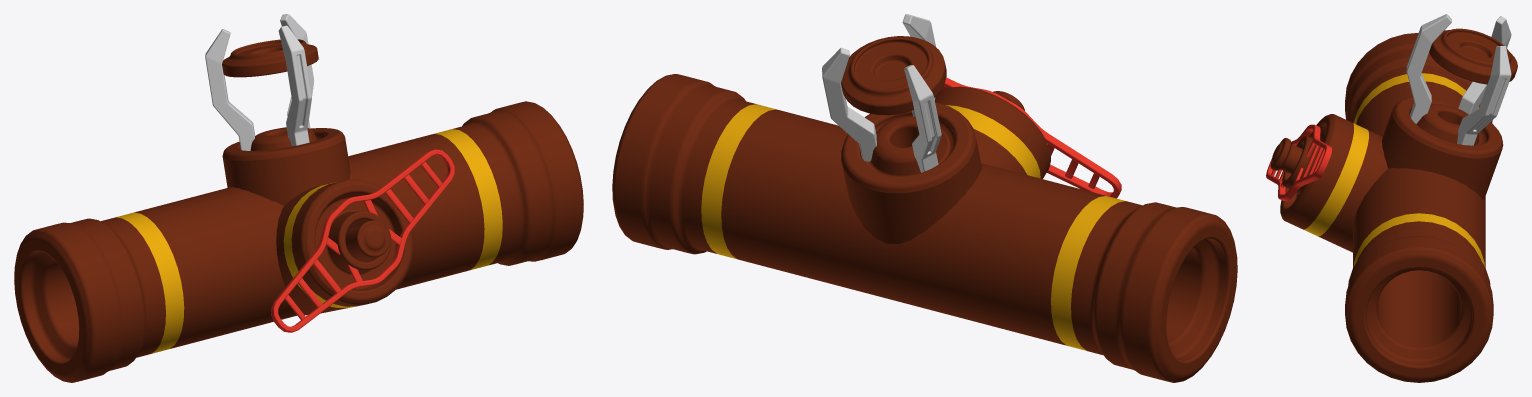
File: sprinkler.fbx
3 renders of one model, left to right at view 1: azimuth 30°, elevation 25°; view 2: azimuth 150°, elevation 25°; view 3: azimuth 270°, elevation 25°, orthographic. The views are drawn at different scales.
Visible parts, largest first — view 1: Cylinder, Cylinder.003, Cylinder.001, Cube, Cube.001, Cylinder.002, Cube.006, Cube.007, Cube.009; view 2: Cylinder, Cylinder.001, Cylinder.002, Cylinder.003, Cube, Cube.001; view 3: Cylinder, Cylinder.003, Cylinder.001, Cube, Cylinder.002, Cube.001.
Part boxes in pixels (x1,y1,x2,y2): Cylinder: [14, 101, 583, 382]; Cylinder.003: [276, 179, 413, 315]; Cylinder.001: [222, 127, 350, 205]; Cube: [205, 14, 313, 150]; Cube.001: [271, 149, 454, 332]; Cylinder.002: [222, 39, 318, 77]; Cube.006: [313, 189, 413, 293]; Cube.007: [298, 174, 428, 307]; Cube.009: [326, 200, 401, 282]; Cylinder: [612, 74, 1237, 382]; Cylinder.001: [841, 102, 981, 244]; Cylinder.002: [841, 36, 946, 115]; Cylinder.003: [935, 86, 1050, 178]; Cube: [822, 14, 941, 172]; Cube.001: [943, 77, 1121, 198]; Cylinder: [1345, 33, 1493, 382]; Cylinder.003: [1270, 114, 1387, 252]; Cylinder.001: [1382, 97, 1503, 199]; Cube: [1406, 14, 1511, 145]; Cylinder.002: [1429, 28, 1517, 84]; Cube.001: [1266, 124, 1332, 200].
Bounding box in the file's own units: 374 × 201 × 174.
